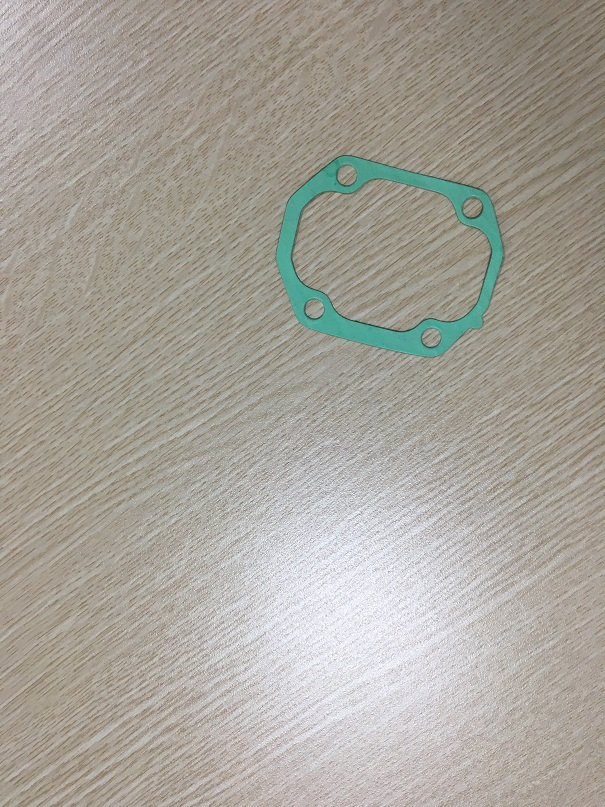type2: (265, 142, 510, 368)
